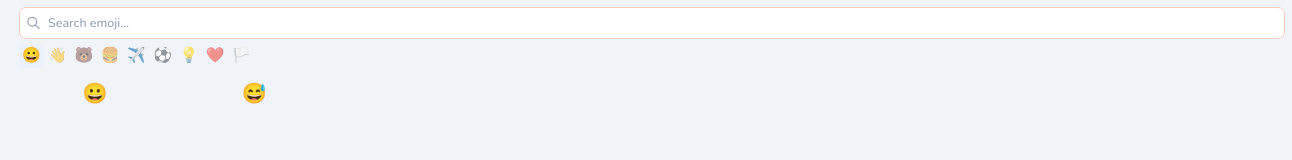
EmojiPicker › swaps the grid when another category is picked
The image size is (1292, 160).
Click the button named "Animals & Nature" at (84, 56), box [72,44,96,68]
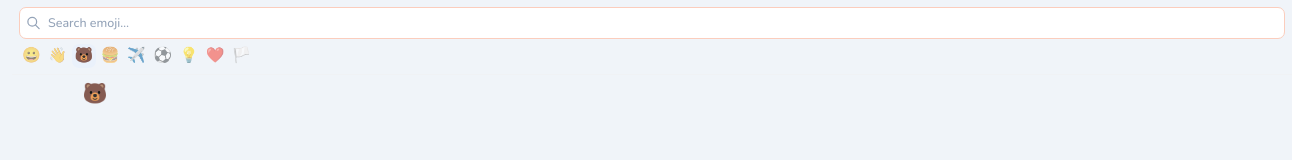
Now the button named "bear" is shown, box [16,78,175,110]
